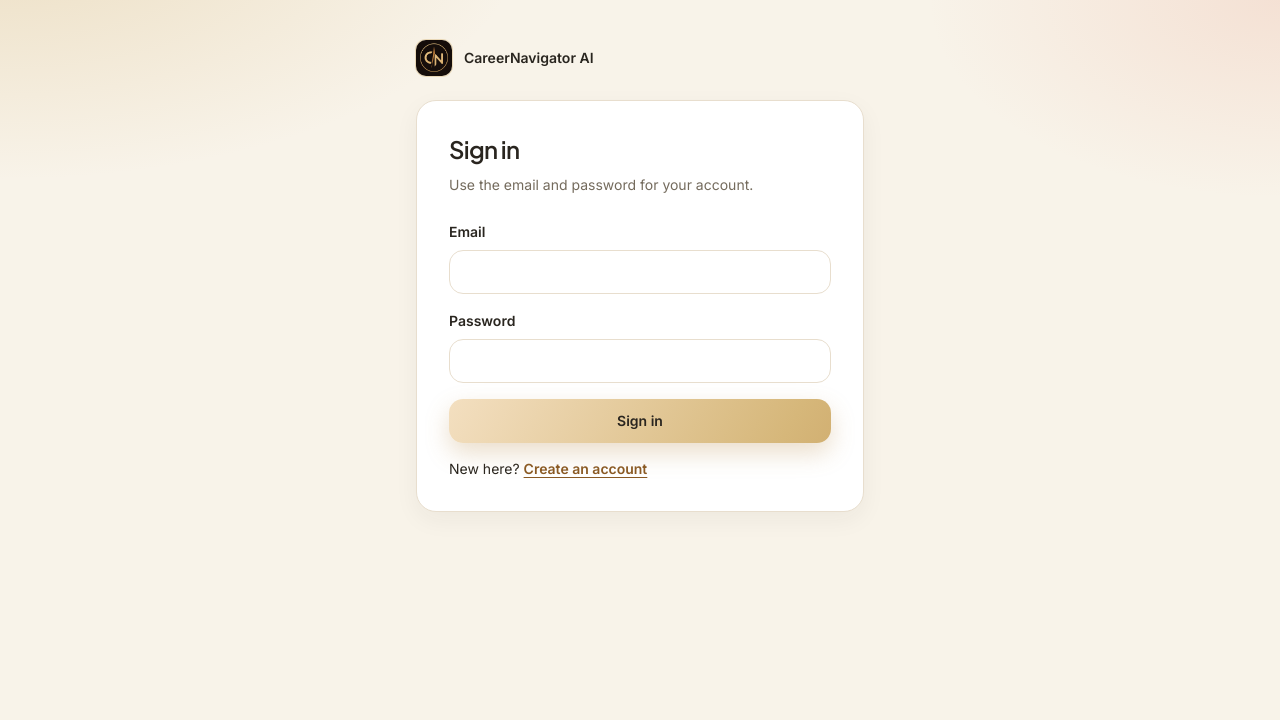
Test: authentication screens › shows a sign-in error from the server
Type "ada@example.com" into the field labelled "Email". click: (640, 272)
box: top-left (449, 250), bottom-right (831, 294)
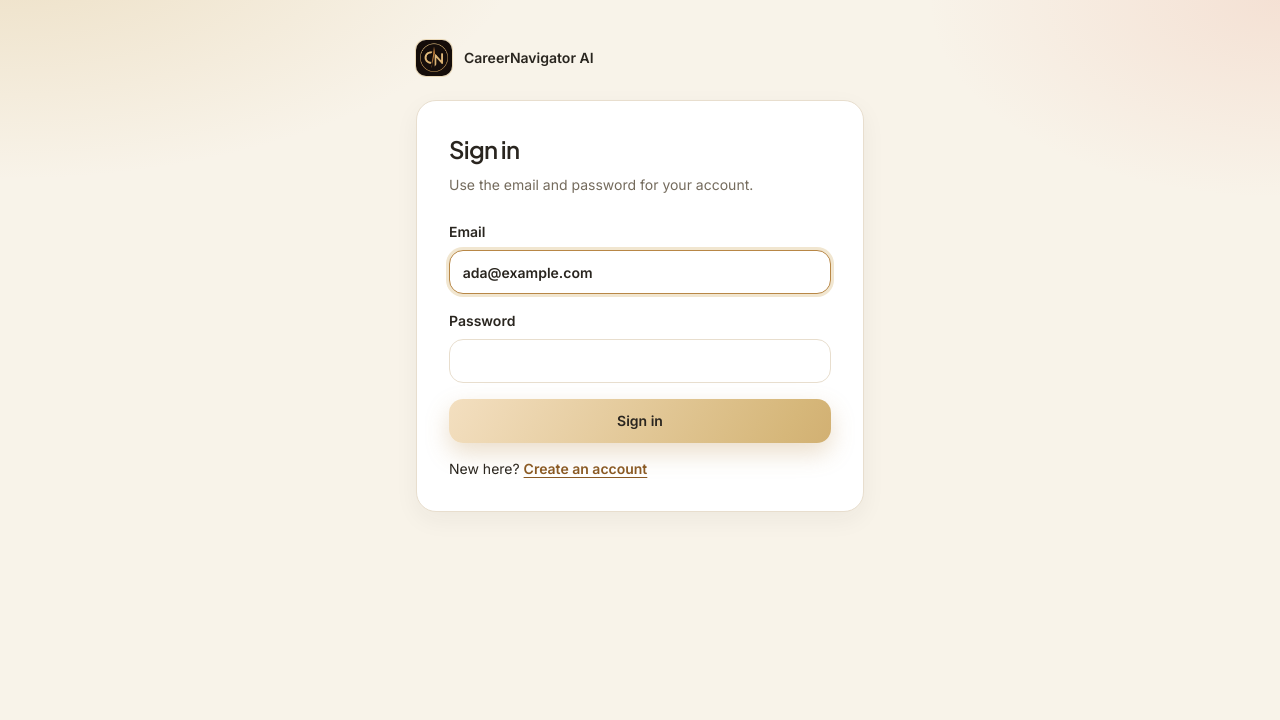
Type "Correct-Horse-12" into the password field labelled "Password". click: (640, 361)
box: top-left (449, 339), bottom-right (831, 383)
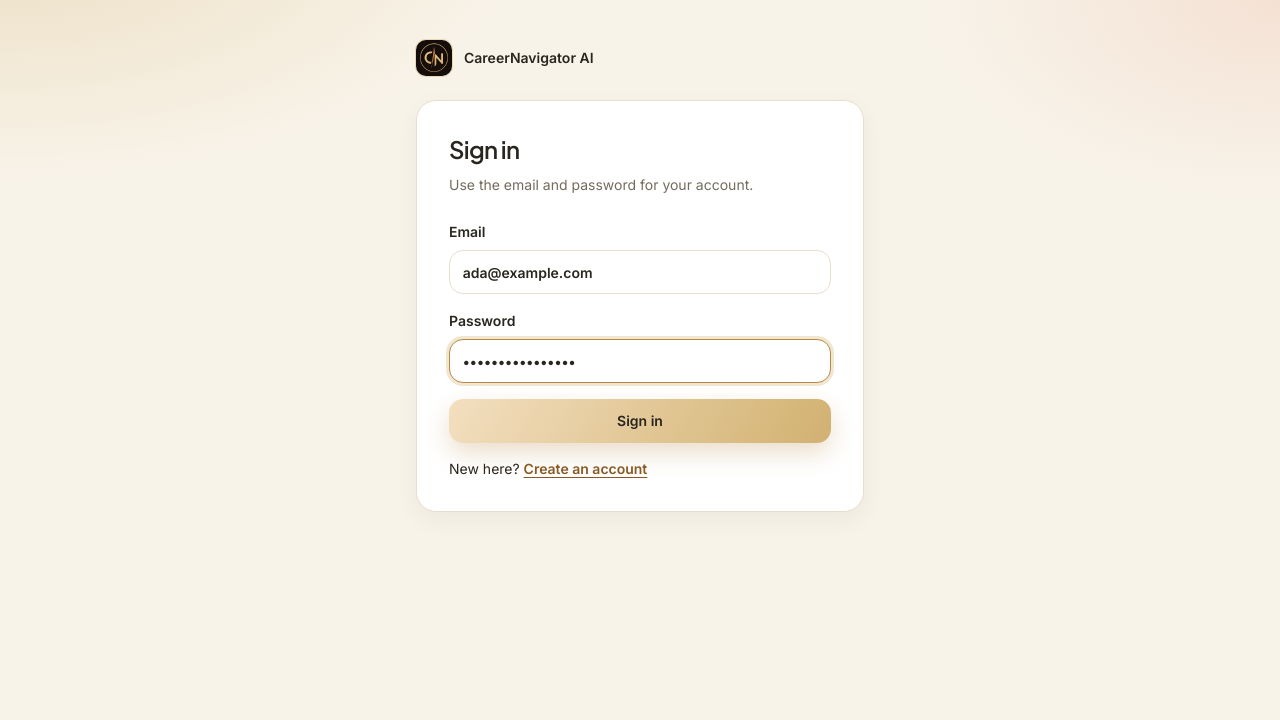
Click the button "Sign in". click: (640, 421)
box: top-left (449, 399), bottom-right (831, 443)
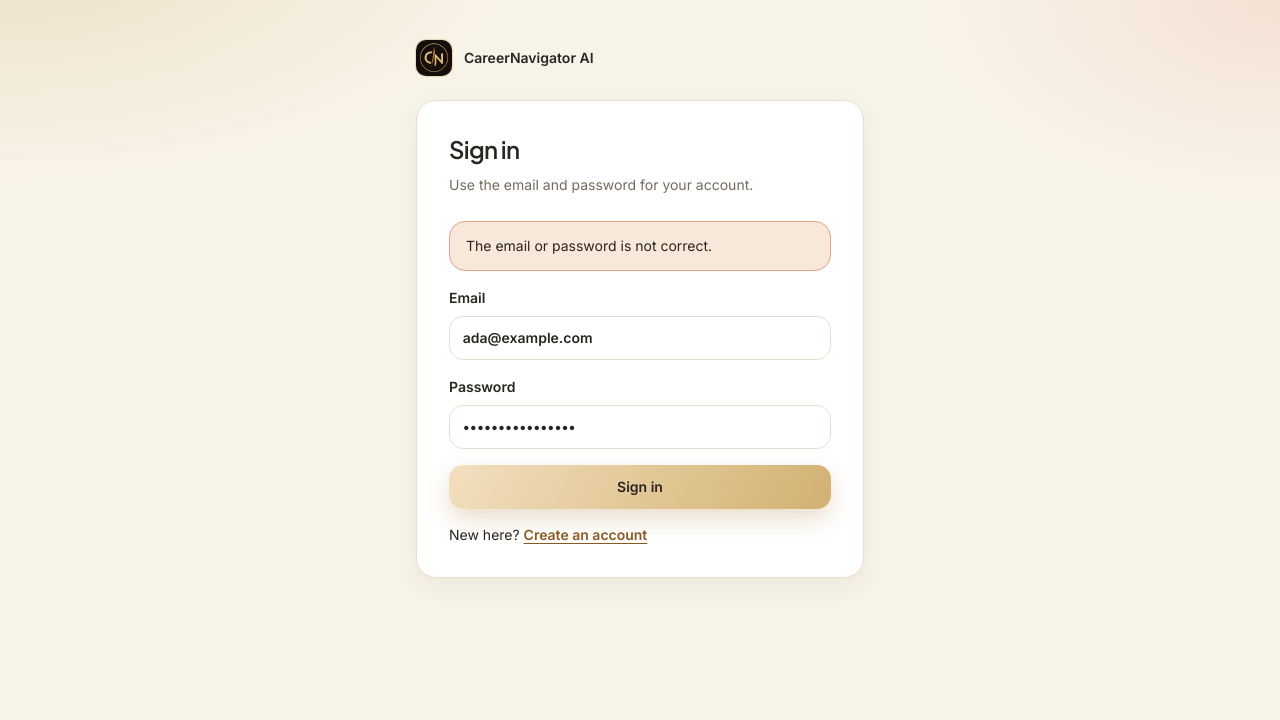
Expected: the message shows "email or password is not correct", top-left (466, 237), bottom-right (712, 254)
